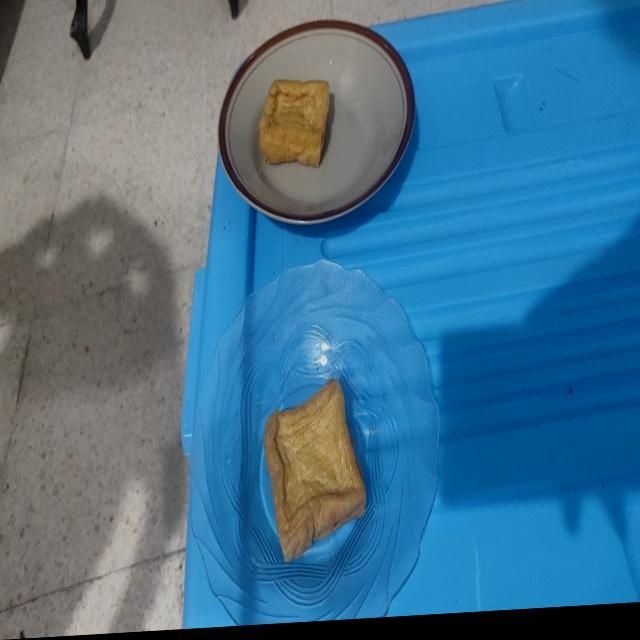tahu_goreng: (264, 379, 366, 562), (260, 80, 330, 166)
